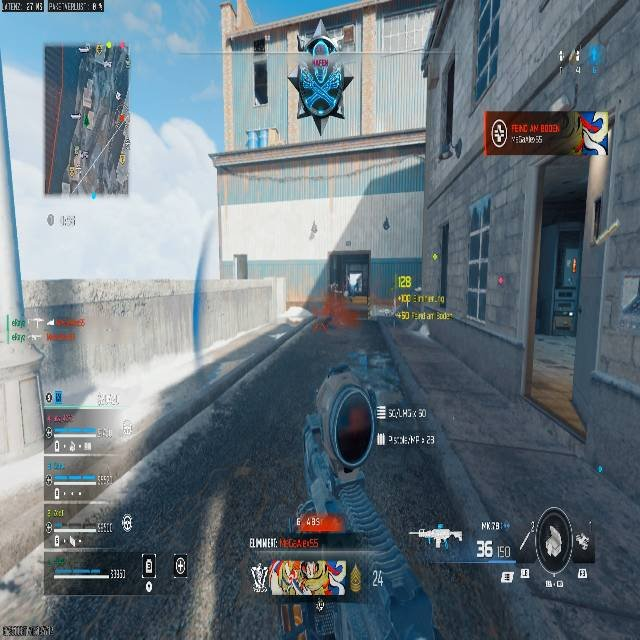head: (315, 363, 379, 457), (308, 38, 335, 58)
player: (270, 359, 447, 639), (288, 37, 352, 138)
